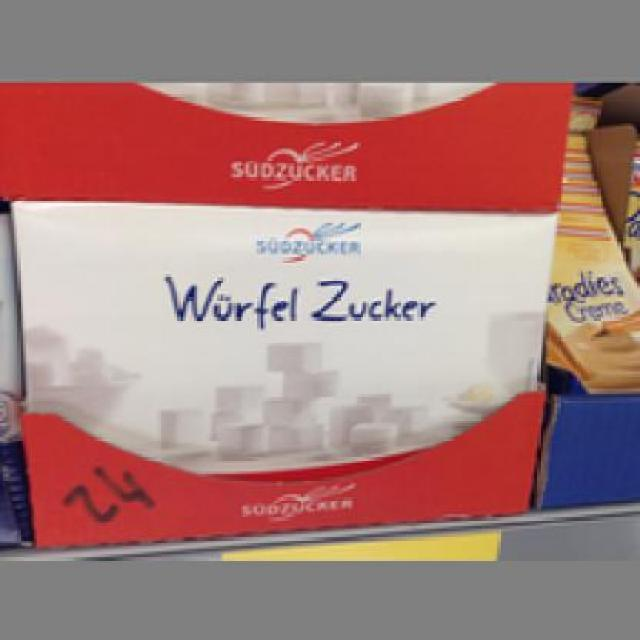Sugar: (6, 196, 554, 469)
